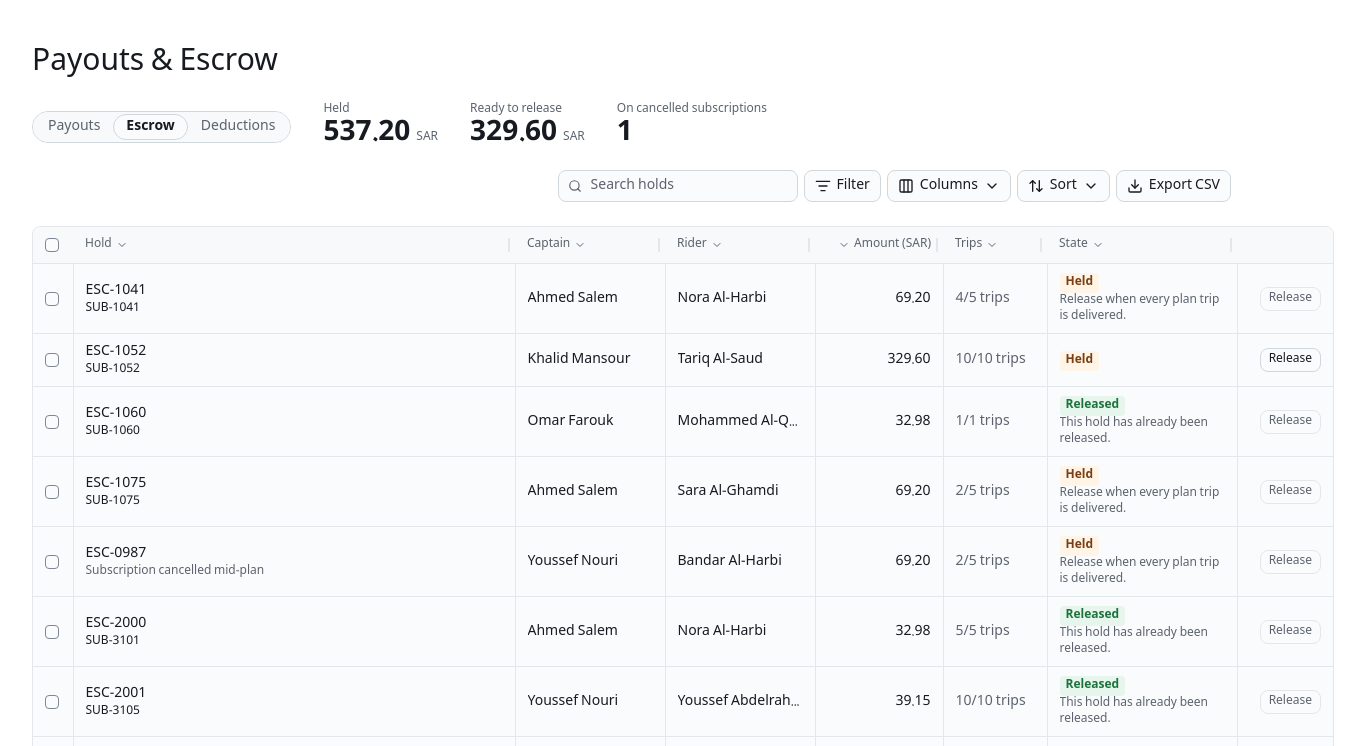
Test: AC-364 — releasing escrow › the hold transitions to Released and stays on the list
Check: the text "ESC-1052" is shown, box [86, 340, 146, 364]
Click the button "Release" in the row of "ESC-1052". click: {"x": 1290, "y": 360}
box: [1260, 348, 1321, 372]
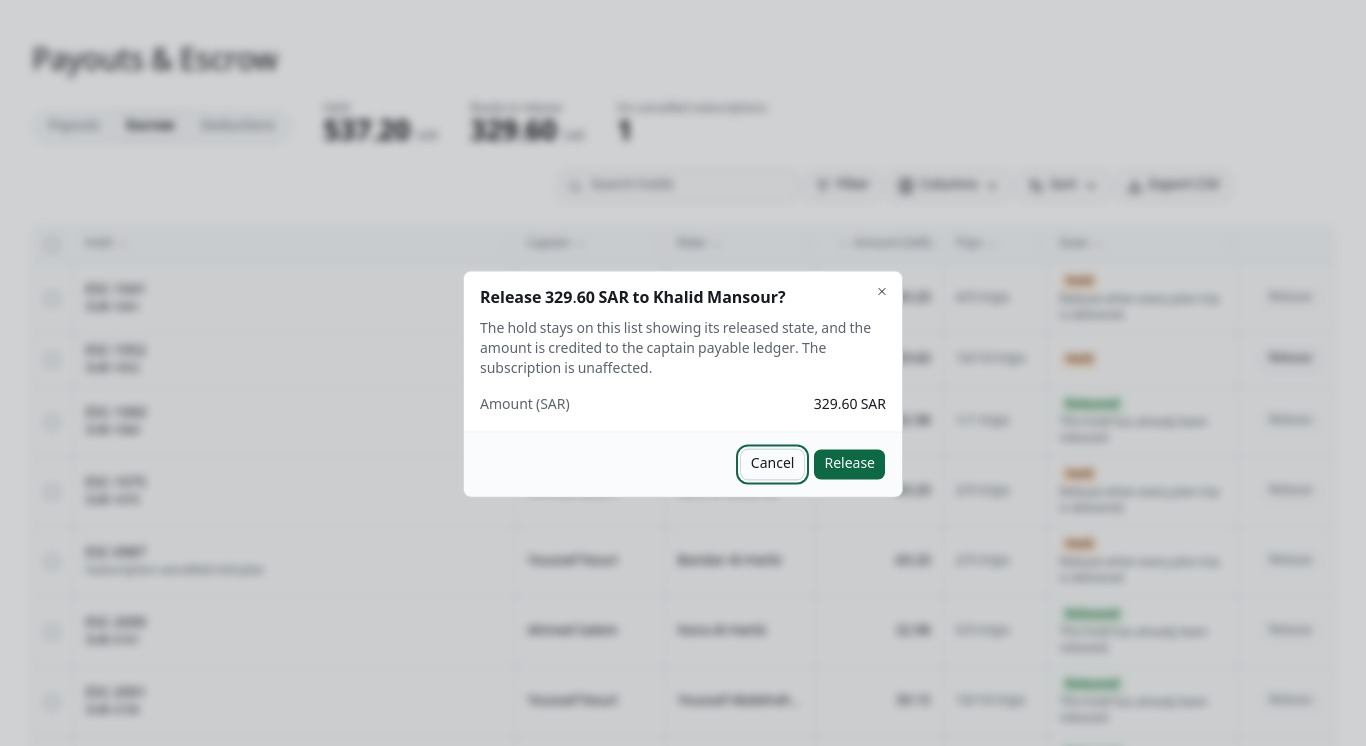
Click the button "Release". click: {"x": 850, "y": 464}
box: [813, 448, 886, 480]
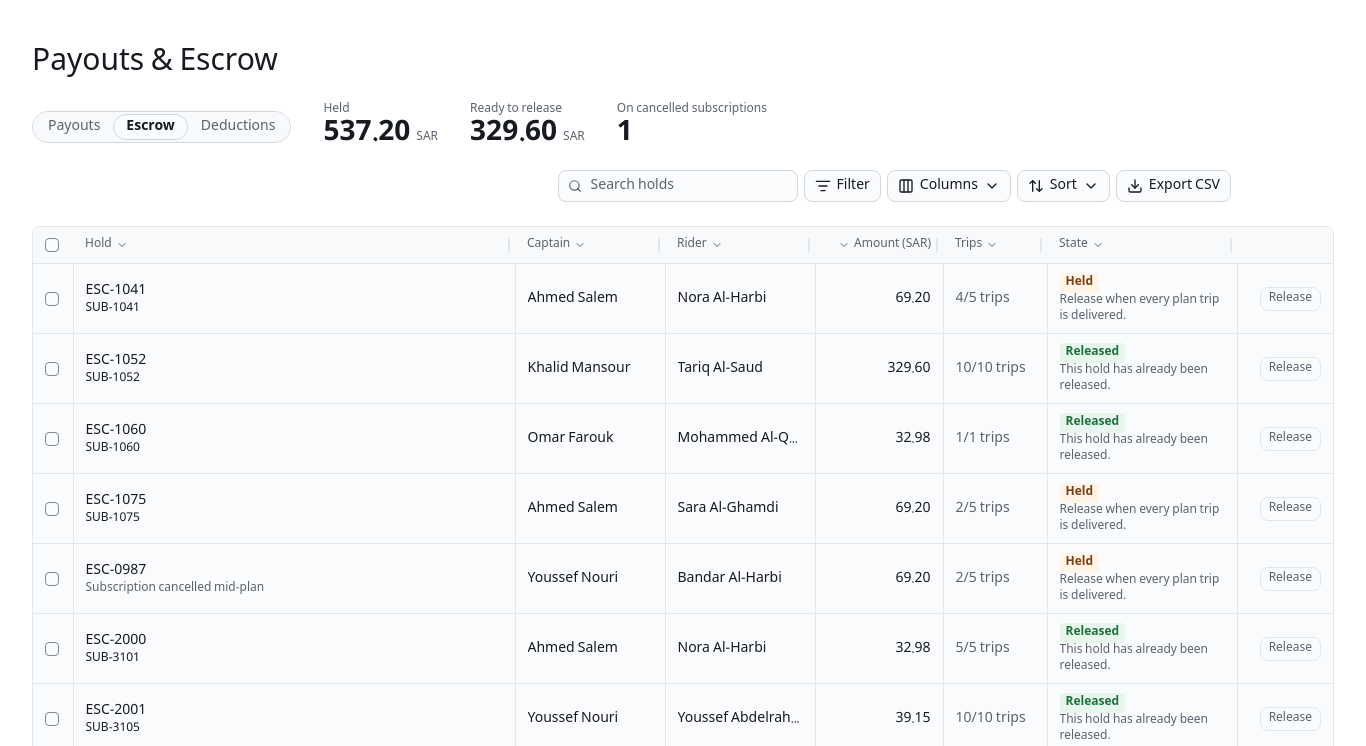
Check: the text "Released" in the row of "ESC-1052" is shown, box [1066, 342, 1119, 363]
